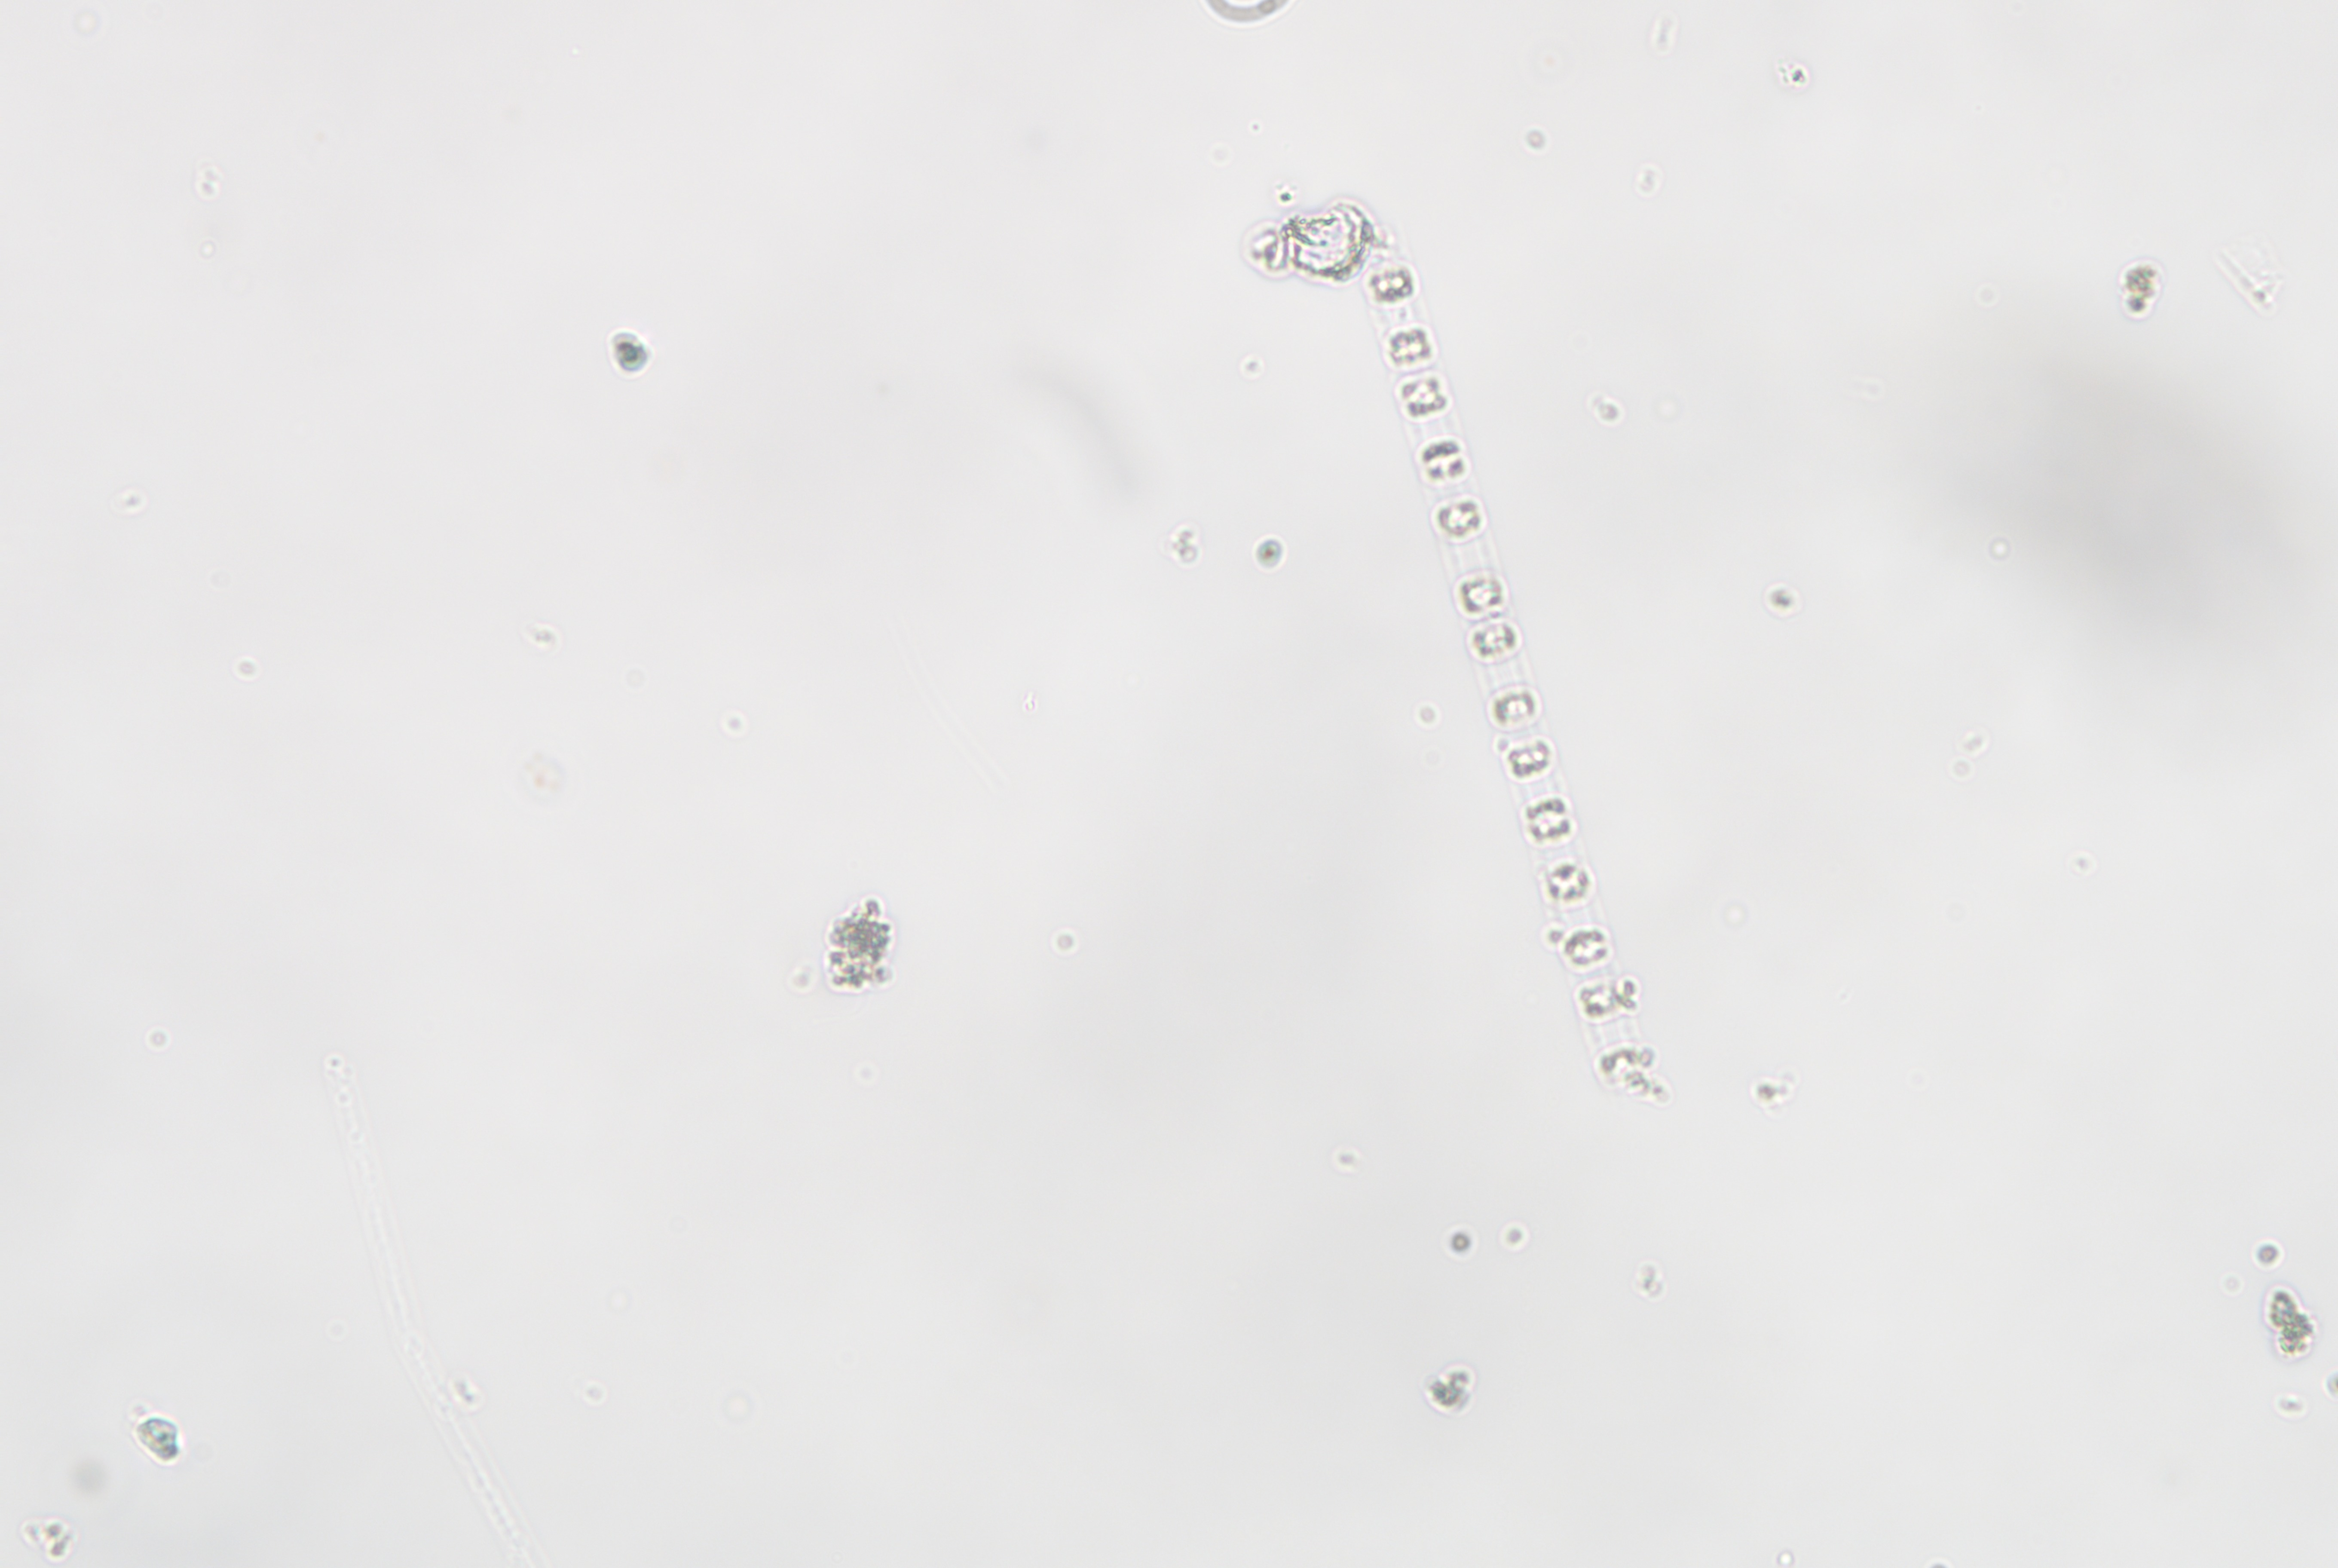skeletonema: (1349, 210, 1663, 1106)
